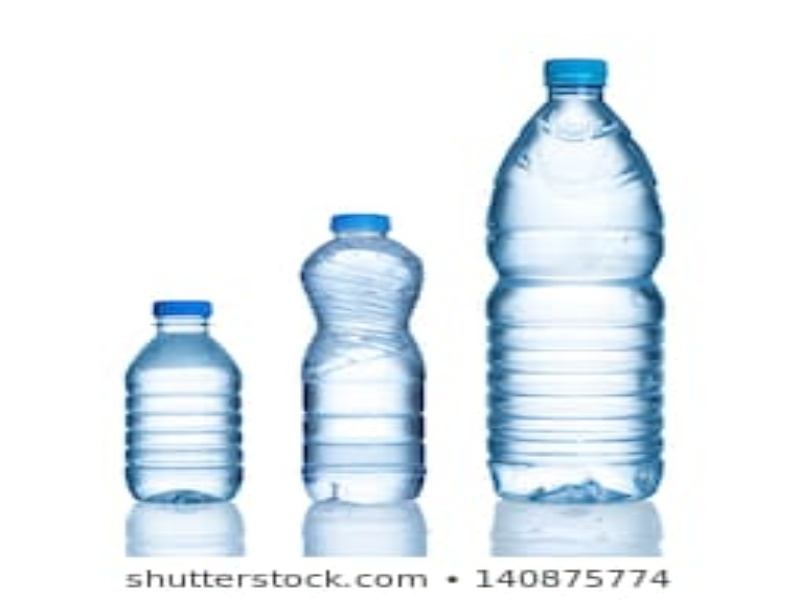plastic-bottle: (480, 53, 674, 511), (293, 210, 427, 509), (125, 297, 250, 508)
